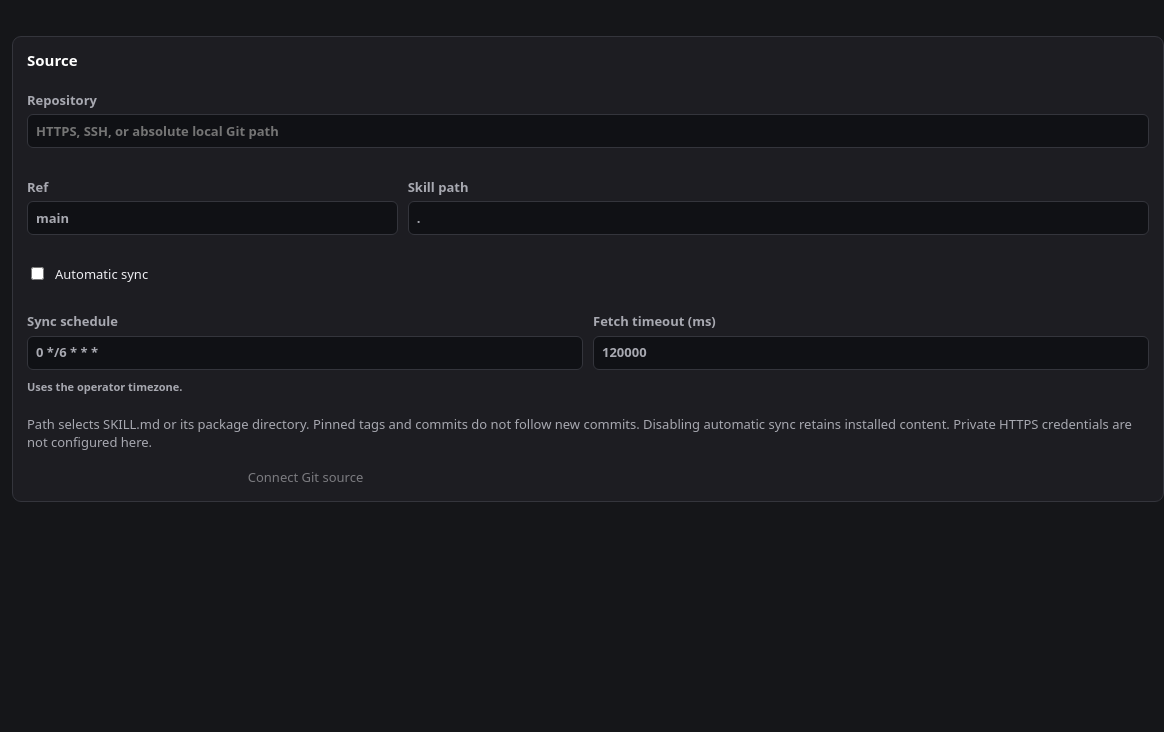
Test: connects and edits a complete Git source and manually syncs with JSON
This screenshot has width=1164, height=732.
Expected: the element labelled "Repository" is enabled, [27,82,1149,488]
In the field labelled "Repository": (588,131) [27,114,1149,148], type "https://example.org/repo.git"
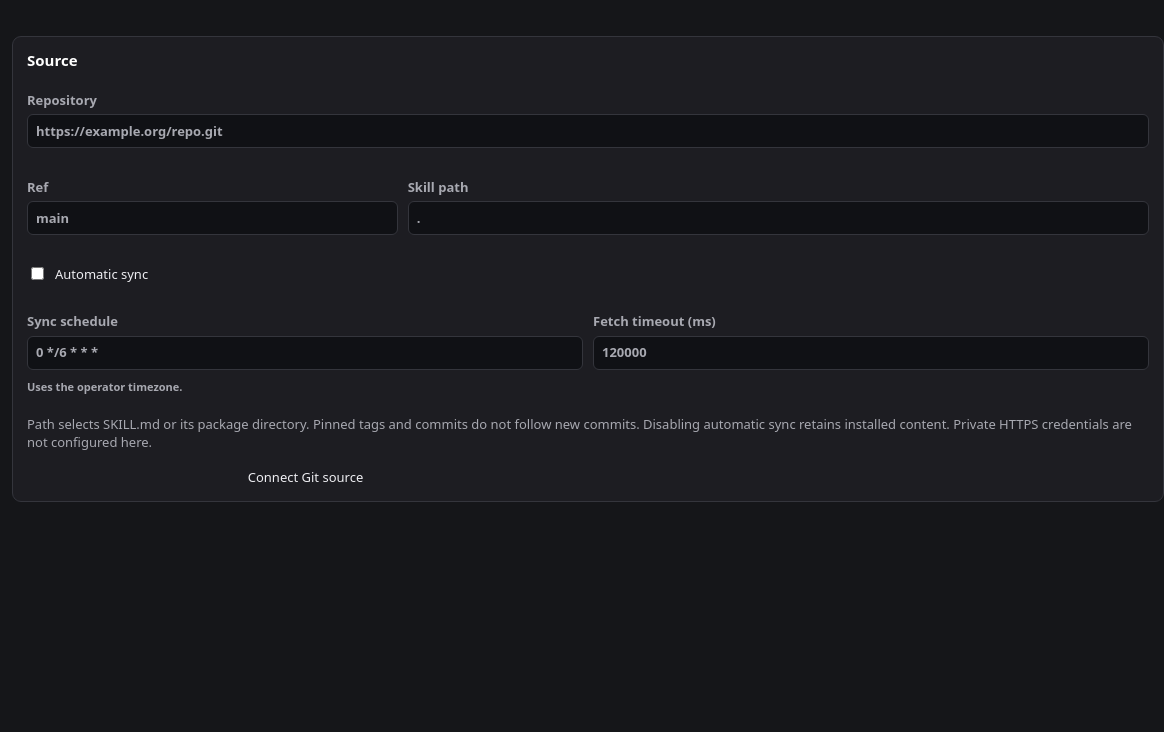
Replace the text in the field labelled "Skill path" with "skills/test": (778,218) [408,201,1149,235]
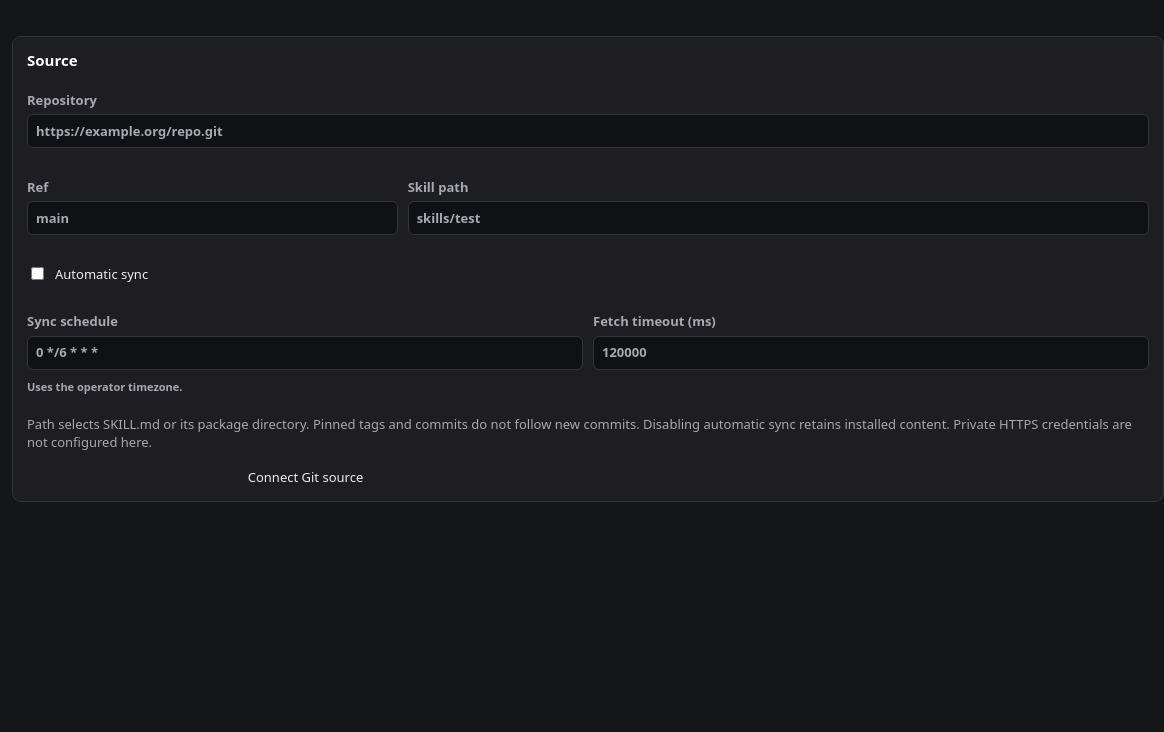
Click the checkbox labelled "Automatic sync": (38,274) [31,267,44,280]
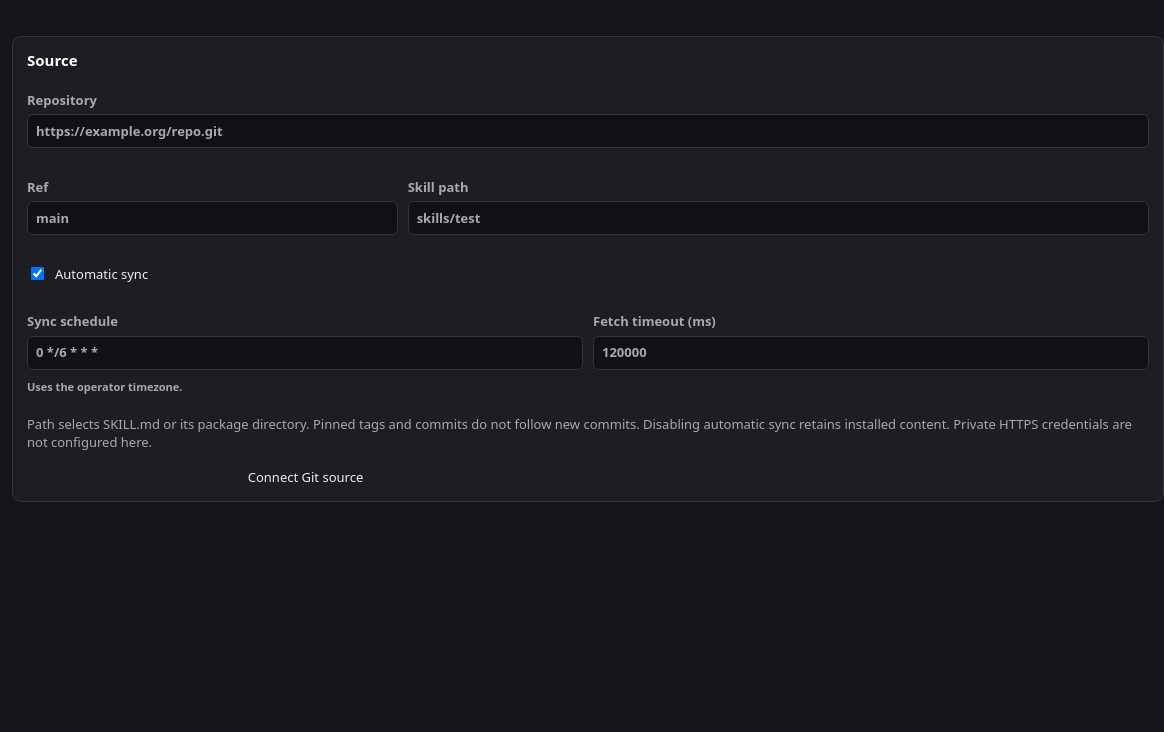
Click the button "Connect Git source": (306,477) [27,467,584,488]
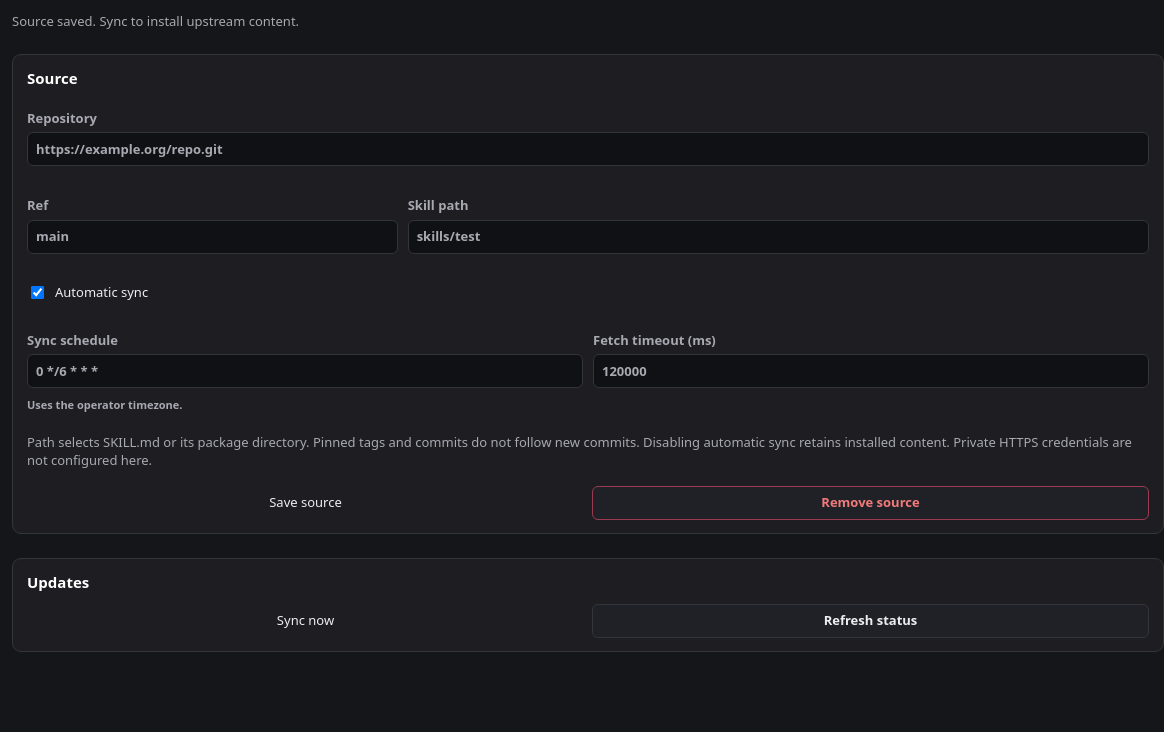
Click the button "Sync now": (306,620) [27,604,584,638]
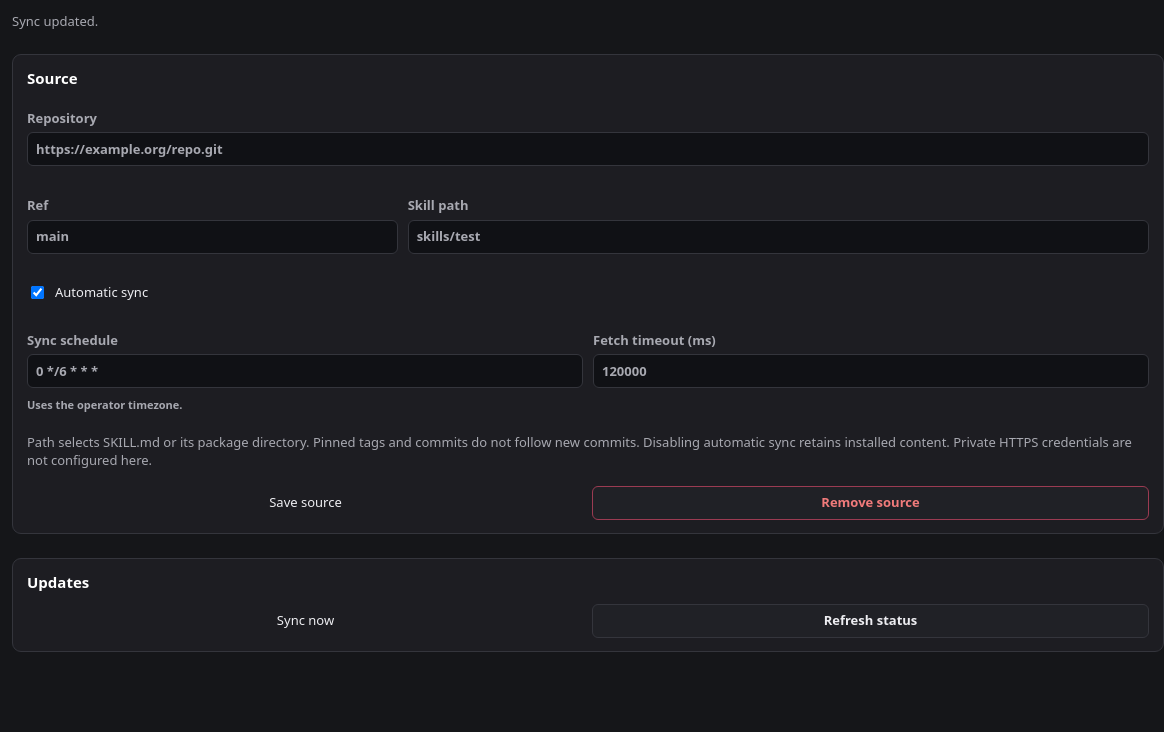
Result: the text "Sync updated." is shown at [12,12,98,30]
